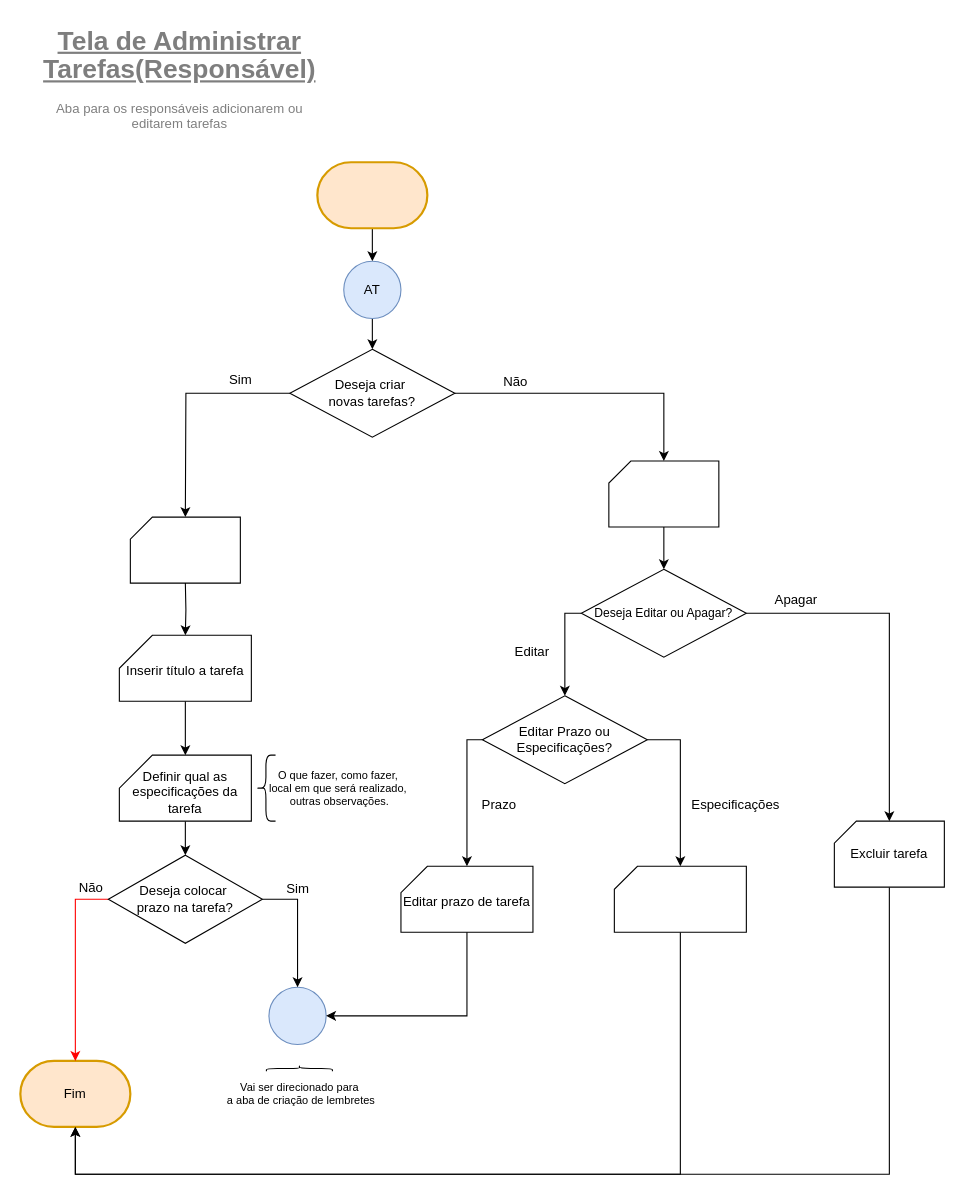
The diagram is 964 pixels wide and 1202 high, and some of its shapes have lost their labels. Here are the shapes that lost their labels. From the top down, the centre of each, then its label:
point 372,195: Início
point 663,493: Selecionar tarefa
point 184,549: Criar tarefa
point 679,898: Editar especificações de tarefas
point 297,1015: CL
